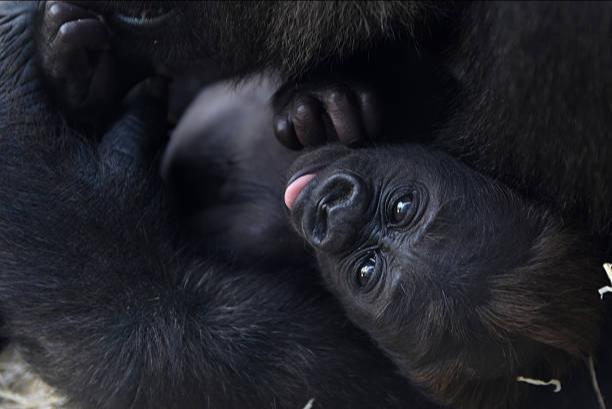gorille_Autres: (8, 0, 612, 409)
